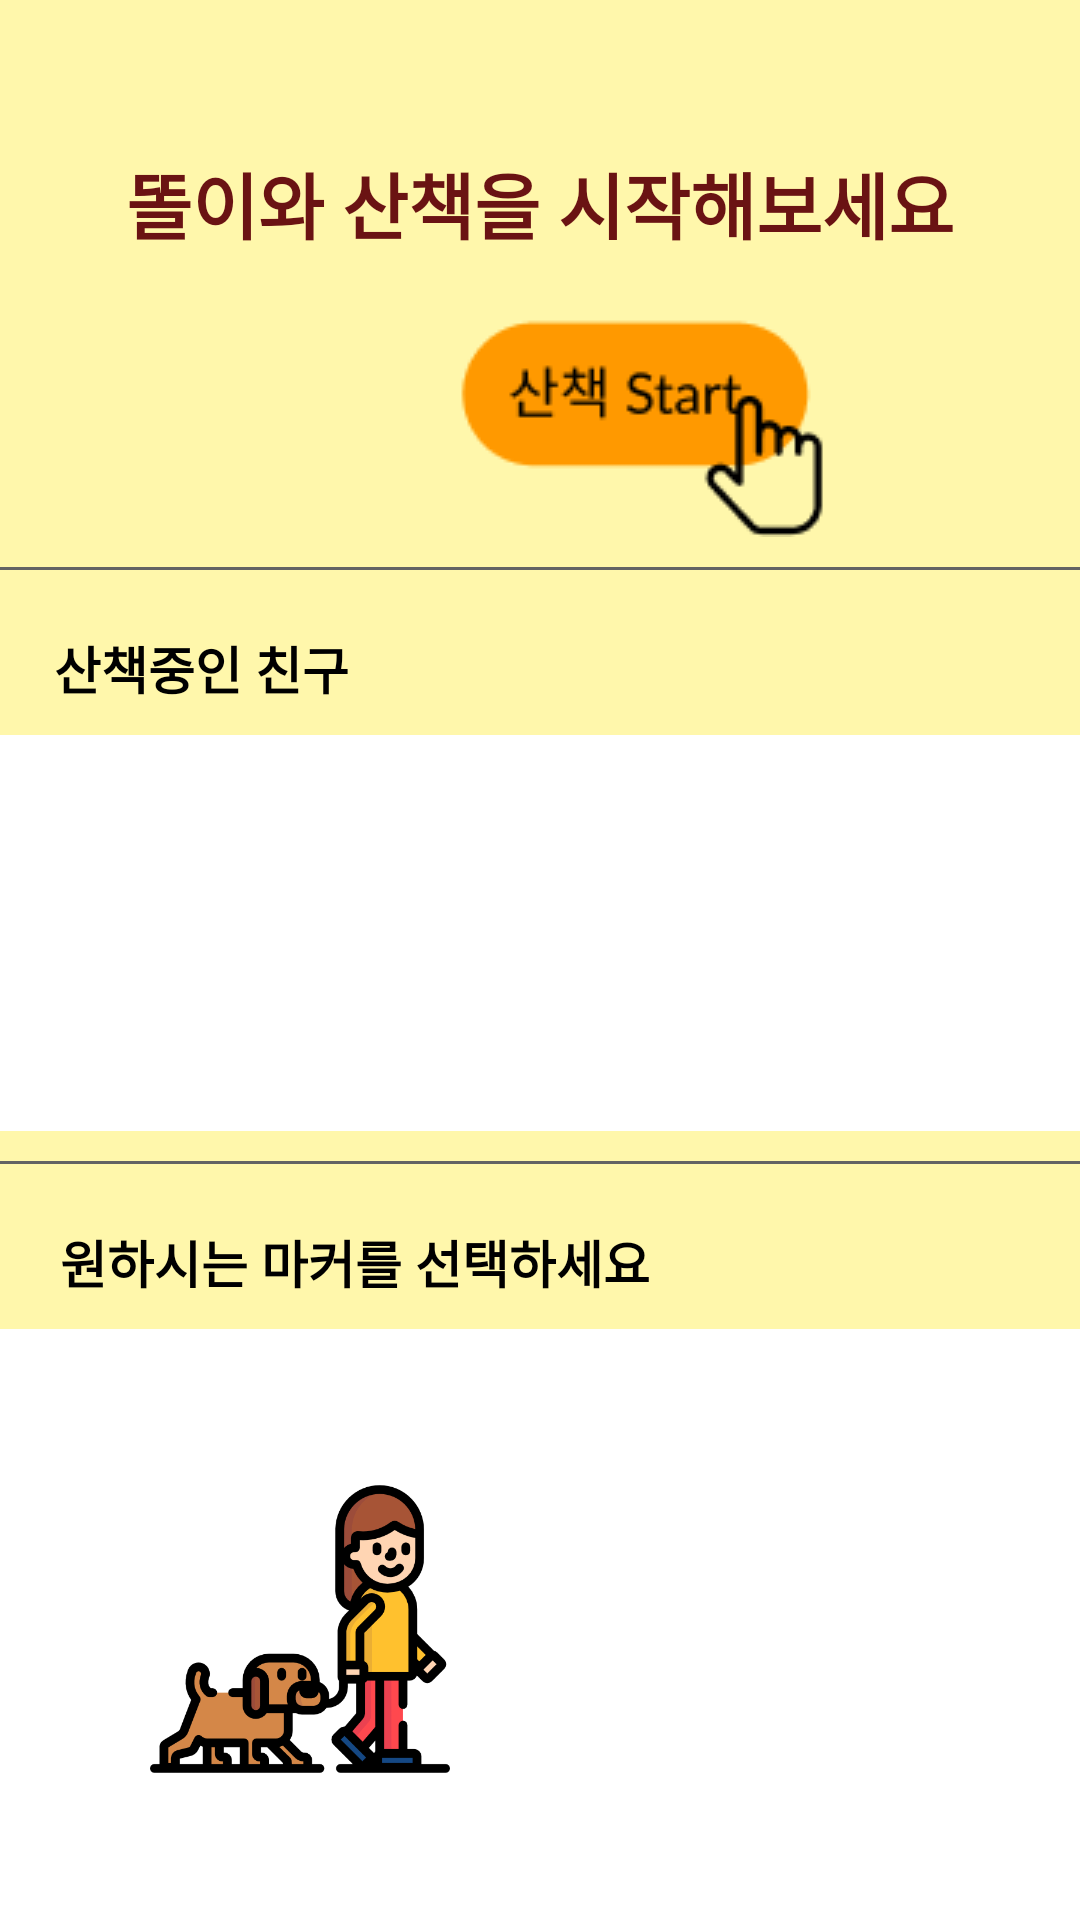

Locate icon controls on the screen. Image size 1080x1920, boxes as Rect(x1, y1, x2, y2).
marker girl: Rect(150, 1485, 450, 1773)
